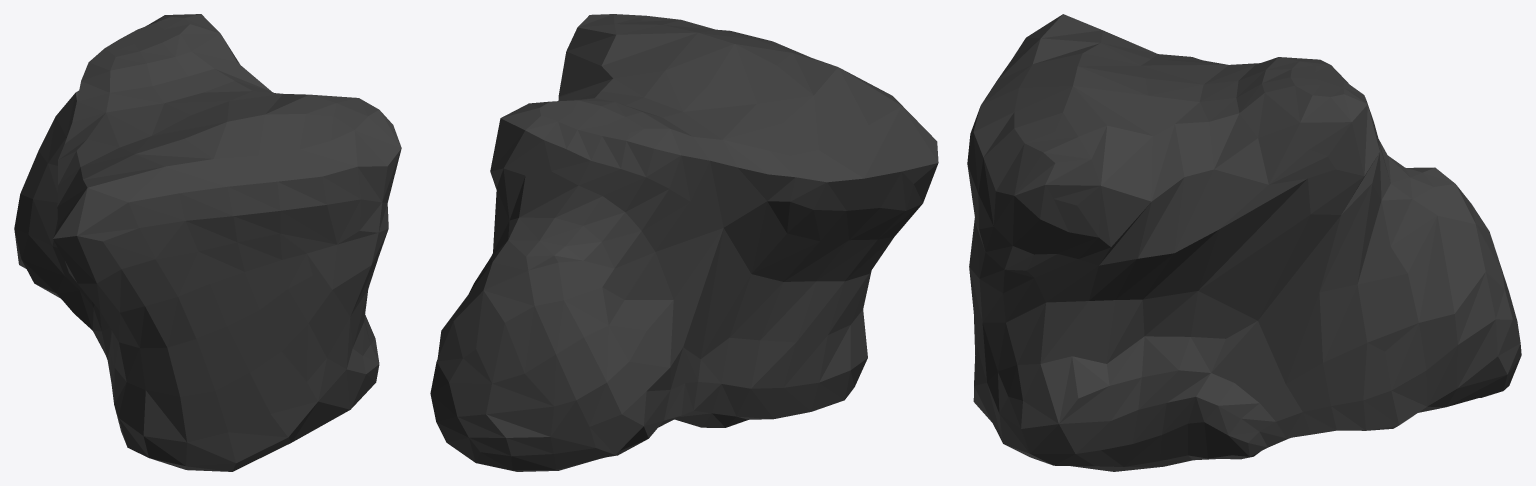
The model's file is Intermediate_carpal_R.glb.
3 renders of one model, left to right at view 1: azimuth 30°, elevation 25°; view 2: azimuth 150°, elevation 25°; view 3: azimuth 270°, elevation 25°, orthographic. The views are drawn at different scales.
Parts seen in each view (by area): view 1: Intermediate_carpal_R; view 2: Intermediate_carpal_R; view 3: Intermediate_carpal_R.
Part boxes in pixels (bbox=[...]): Intermediate_carpal_R: bbox=[14, 14, 401, 471]; Intermediate_carpal_R: bbox=[430, 14, 938, 471]; Intermediate_carpal_R: bbox=[967, 14, 1521, 471].
Size of the model in its own units: 0.0525 by 0.05 by 0.0665.
1 material, 1 textured.
